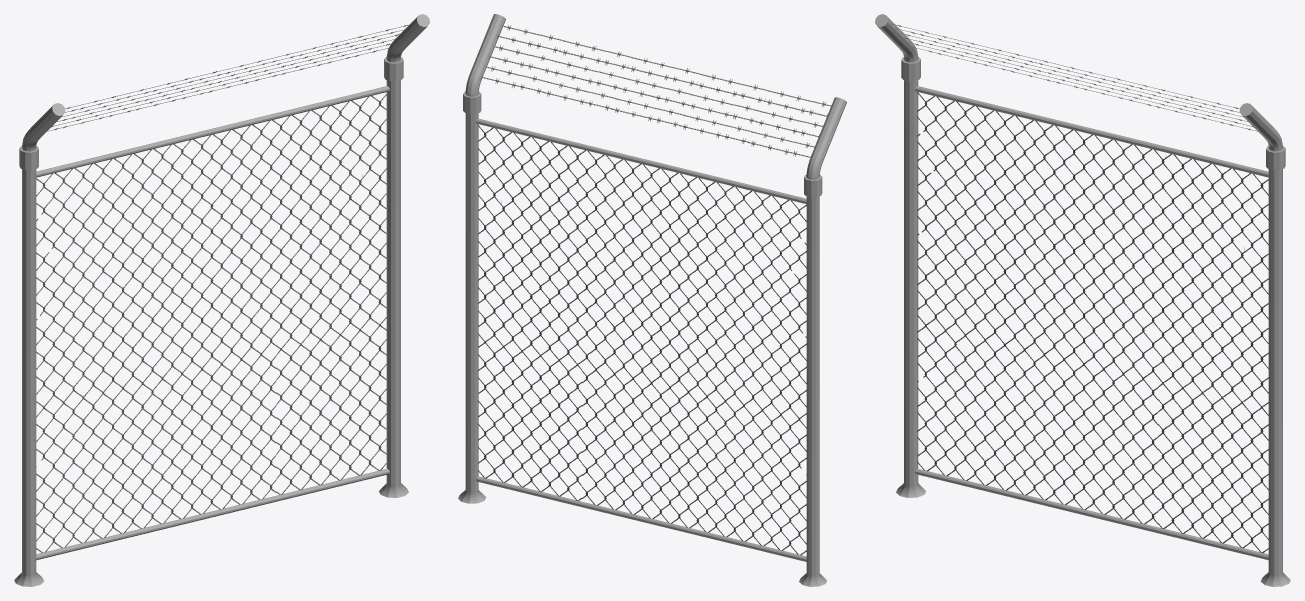
File: fance.fbx
3 views of the same model, side by side, from view 1: azimuth 30°, elevation 25°; view 2: azimuth 150°, elevation 25°; view 3: azimuth 330°, elevation 25° (orthographic). The views are drawn at different scales.
Visible parts, largest first — view 1: fence7, fence, fence5, fence2, fence4, fence6, fence3, fence1; view 2: fence7, fence, fence5, fence2, fence4, fence6, fence1, fence3; view 3: fence7, fence5, fence, fence2, fence4, fence6, fence1, fence3.
Boxes of the visible parts, <box> form: fence7: <box>36,92,387,552</box>; fence: <box>14,146,44,586</box>; fence5: <box>379,57,408,497</box>; fence2: <box>47,24,412,131</box>; fence4: <box>36,86,389,177</box>; fence6: <box>36,468,389,560</box>; fence3: <box>386,14,429,62</box>; fence1: <box>22,103,65,151</box>; fence7: <box>478,124,806,555</box>; fence: <box>799,175,827,586</box>; fence5: <box>458,91,486,503</box>; fence2: <box>480,25,831,157</box>; fence4: <box>476,118,806,203</box>; fence6: <box>476,476,806,561</box>; fence1: <box>806,97,846,179</box>; fence3: <box>465,14,505,96</box>; fence7: <box>917,92,1268,552</box>; fence5: <box>1260,146,1290,586</box>; fence: <box>896,57,925,497</box>; fence2: <box>891,23,1257,131</box>; fence4: <box>915,86,1268,177</box>; fence6: <box>915,468,1268,560</box>; fence1: <box>875,14,918,62</box>; fence3: <box>1239,103,1282,151</box>.
Size of the model in its own units: 6.44 by 7.82 by 1.12.
